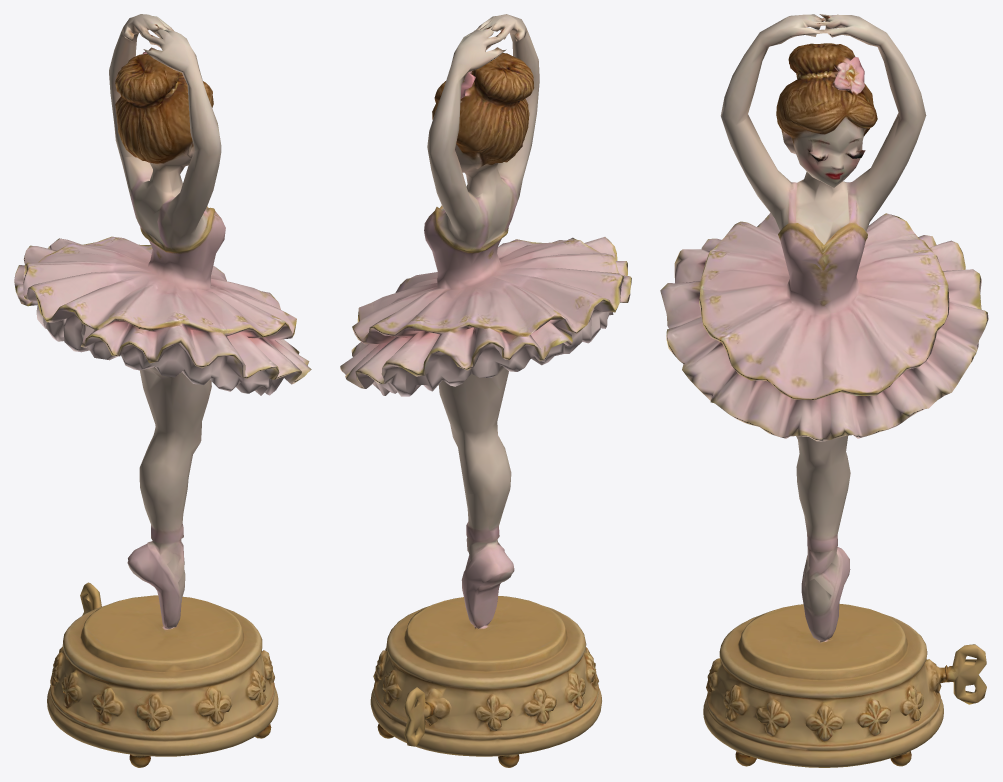
File: ballerina.glb
3 renders of one model, left to right at view 1: azimuth 30°, elevation 25°; view 2: azimuth 150°, elevation 25°; view 3: azimuth 270°, elevation 25°, orthographic. The views are drawn at different scales.
Visible parts, largest first — view 1: tripo_node_bdf1bbe1-d93d-4799-ae4d-94169e5763c8; view 2: tripo_node_bdf1bbe1-d93d-4799-ae4d-94169e5763c8; view 3: tripo_node_bdf1bbe1-d93d-4799-ae4d-94169e5763c8.
Boxes of the visible parts, box(x1,y1,x2,y2) form: tripo_node_bdf1bbe1-d93d-4799-ae4d-94169e5763c8: box(14, 14, 311, 767); tripo_node_bdf1bbe1-d93d-4799-ae4d-94169e5763c8: box(340, 14, 631, 767); tripo_node_bdf1bbe1-d93d-4799-ae4d-94169e5763c8: box(660, 14, 988, 767).
Size of the model in its own units: 0.3635 by 0.9798 by 0.406.
Materials: 1 (1 with a texture image).
